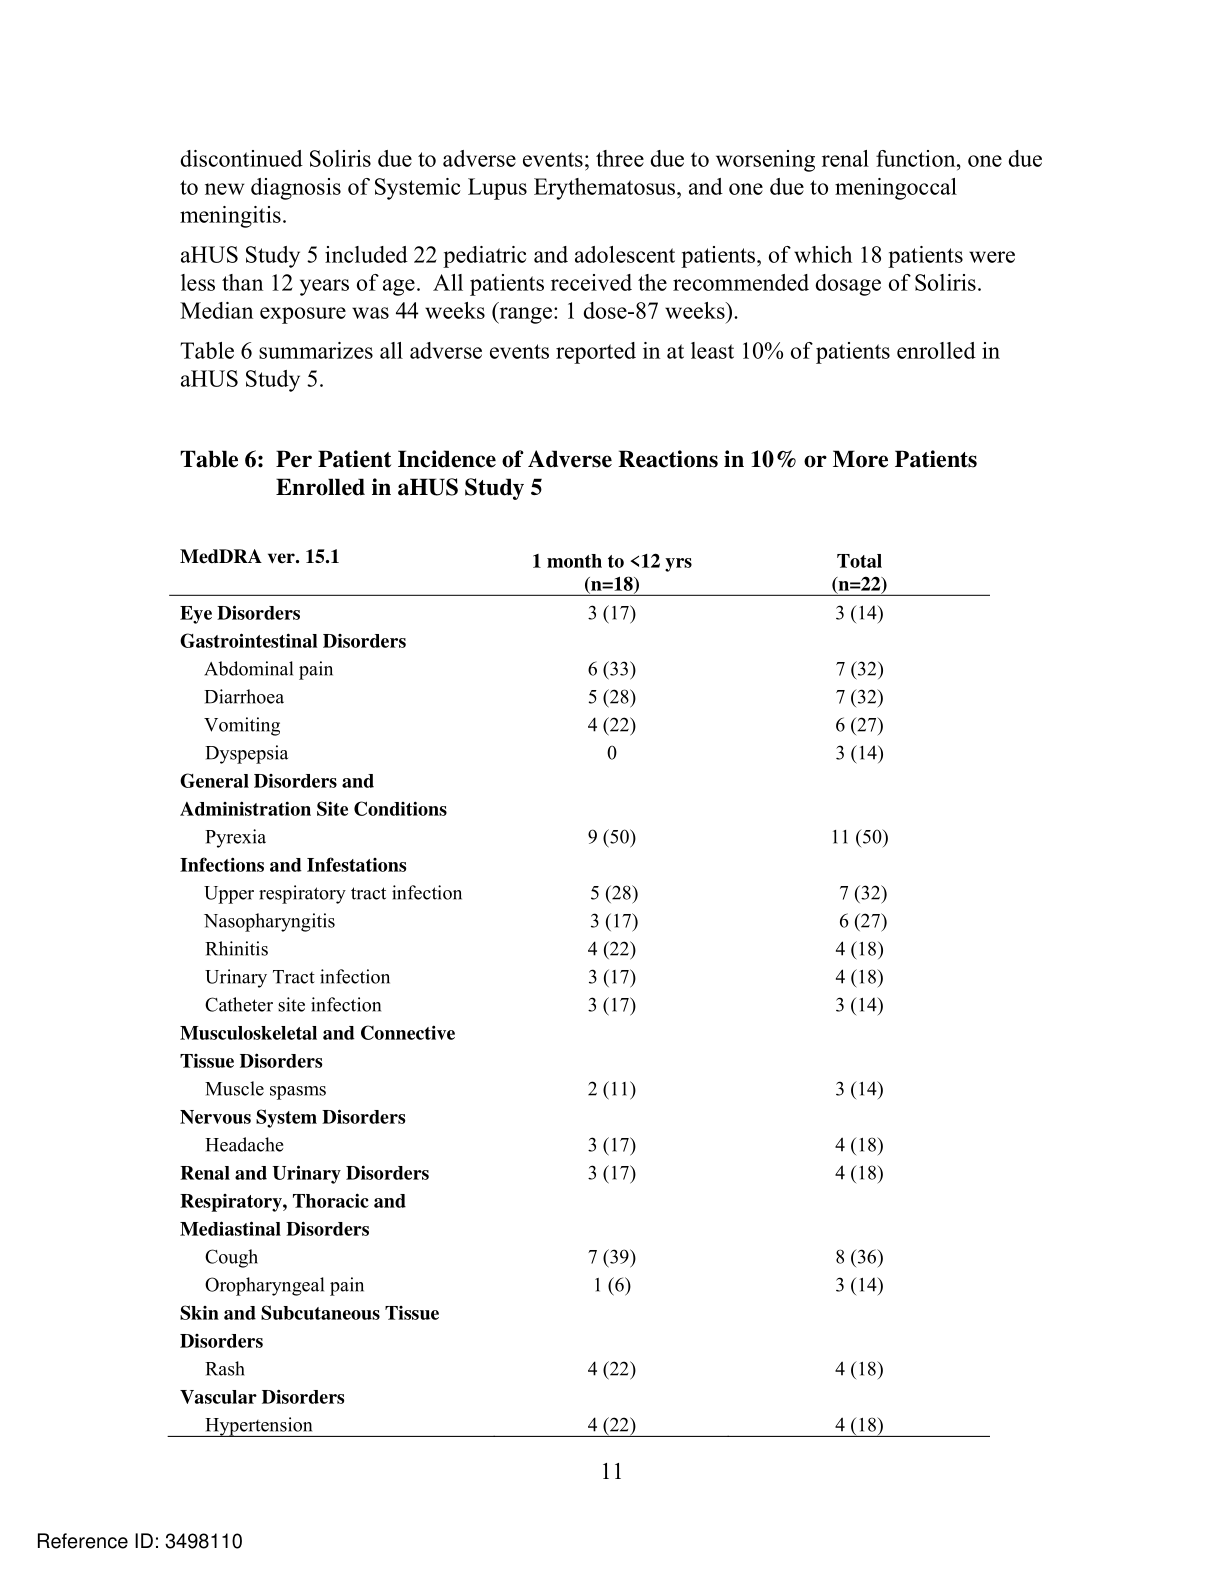partial_lined: (166, 543, 990, 1437)
